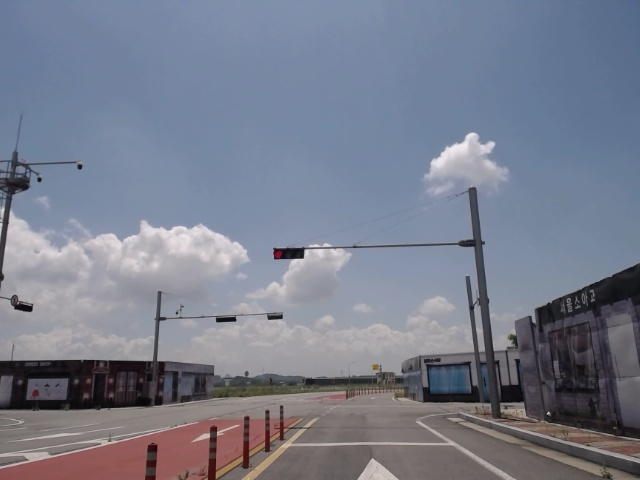red_3: (270, 246, 305, 259)
